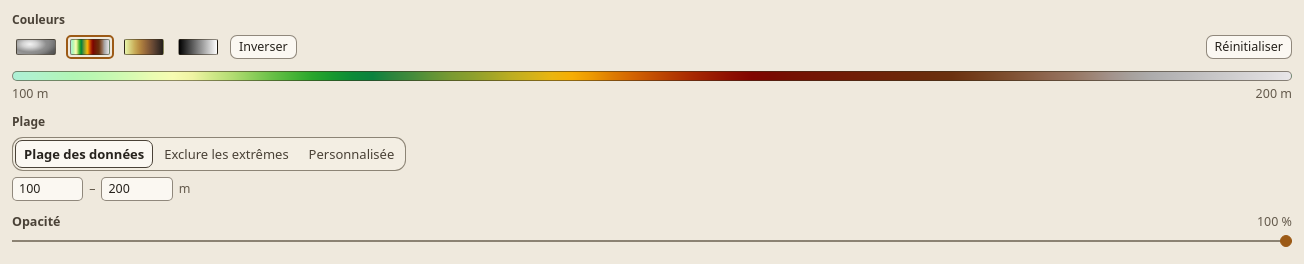
Test: an open item's Range › commits Custom only for a pair that parses in the locale with minimum below maximum, else reverts
Replace the text in the field named "Minimum" with "110,5". click: (48, 189)
box: [12,177,83,201]
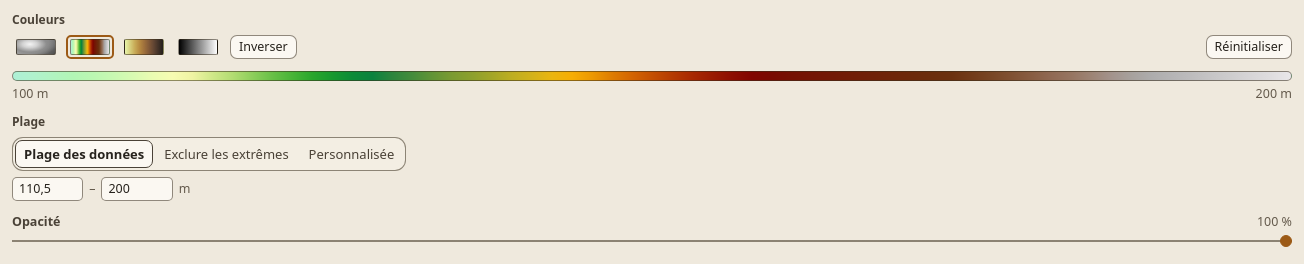
Press Enter in the field named "Minimum", box [12,177,83,201]
Replace the text in the field named "Minimum" with "250". click: (48, 189)
box: [12,177,83,201]
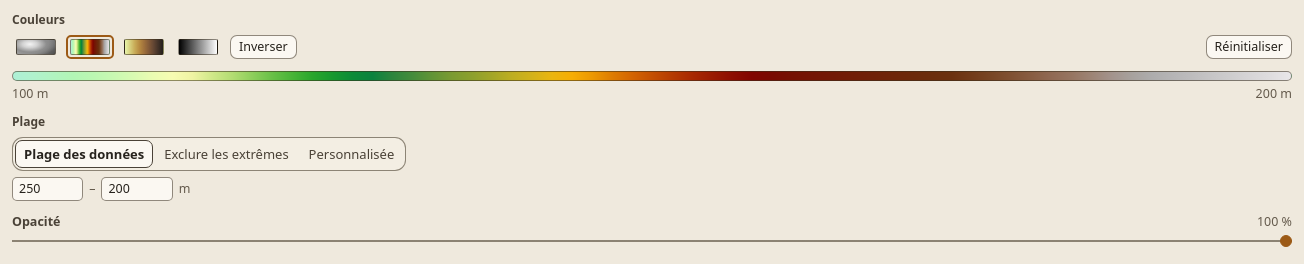
Leave the field named "Minimum", box [12,177,83,201]
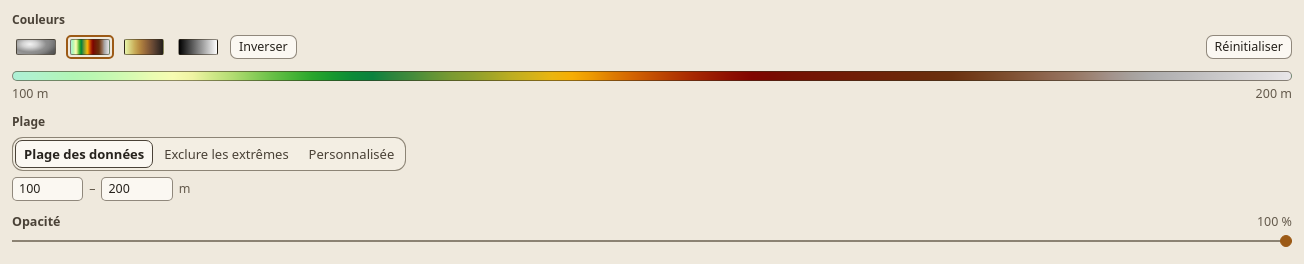
Check: the field named "Minimum" holds "100", box [12,177,83,201]
Replace the text in the field named "Maximum" with "deux cents". click: (137, 189)
box: [102,177,173,201]
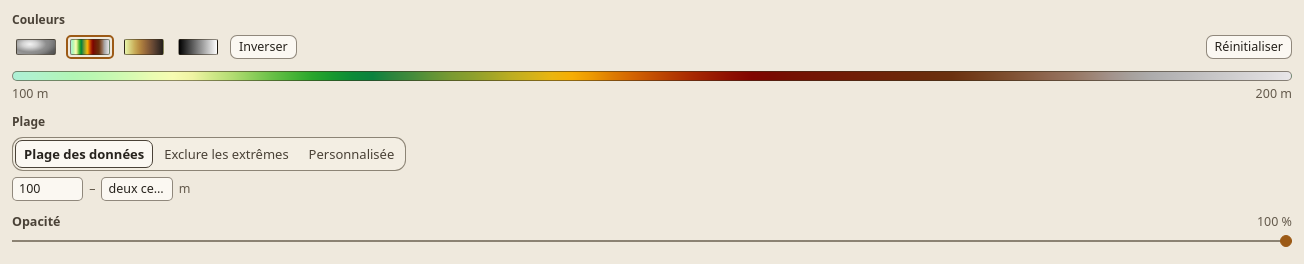
Press Enter in the field named "Maximum", box [102,177,173,201]
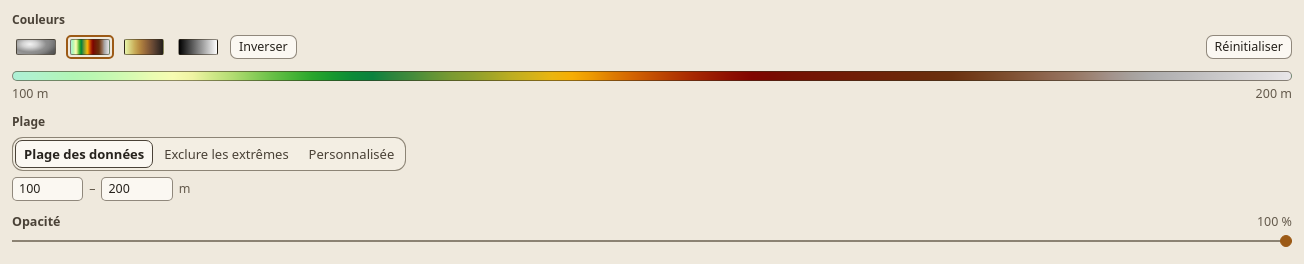
Check: the field named "Maximum" holds "200", box [102,177,173,201]
